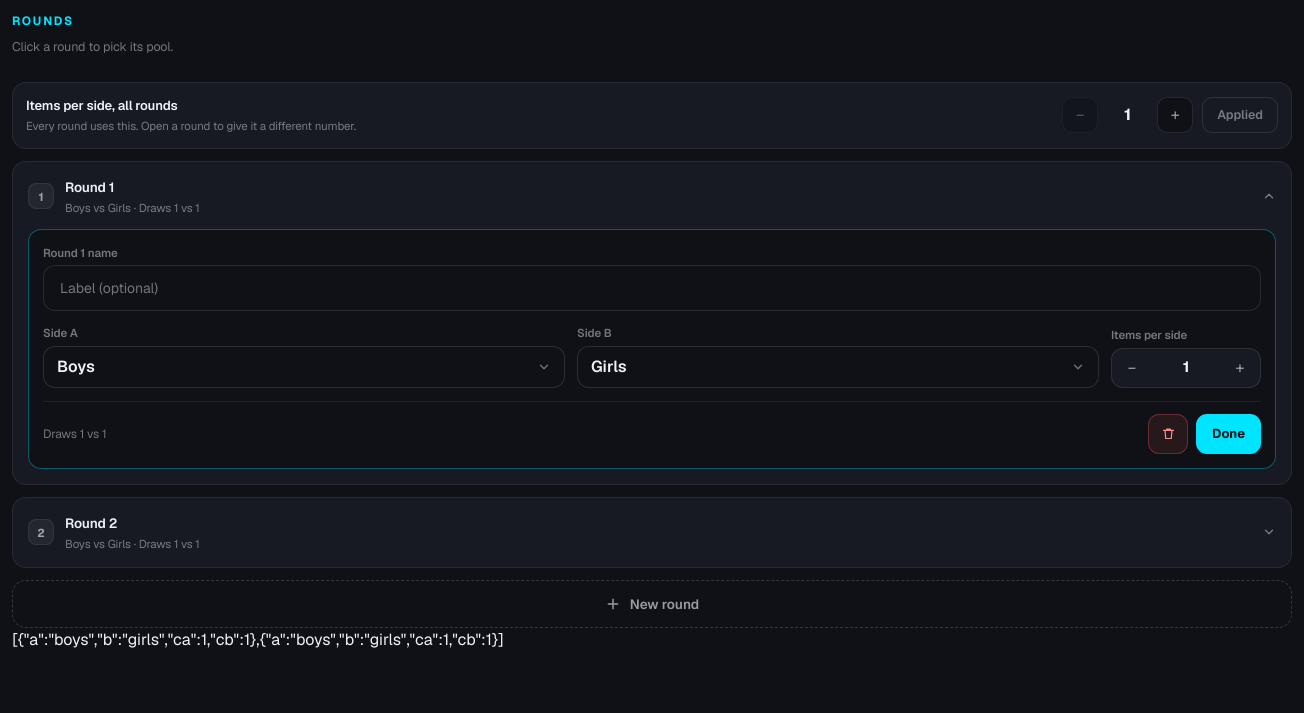
VersusEditor progressive disclosure (T6) › auto-expands a newly added round
Click the button "New round" at {"x": 652, "y": 604}, box [12, 580, 1292, 628]
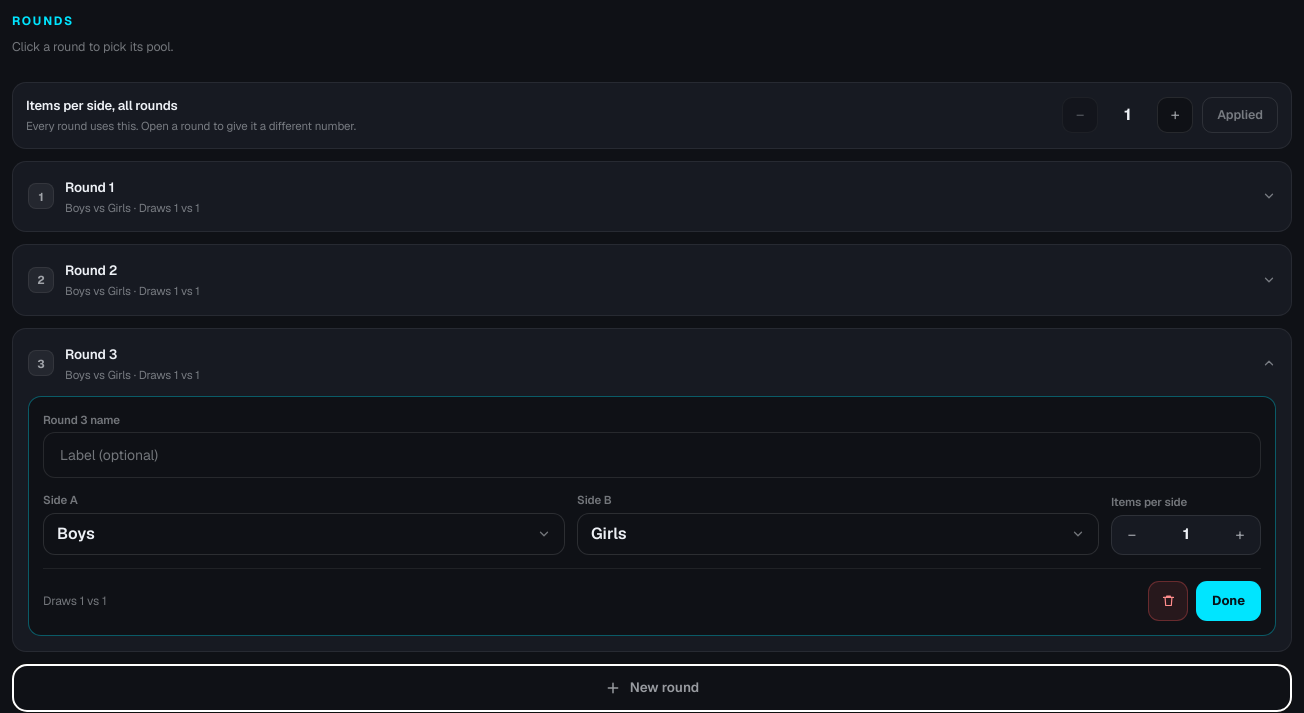
Now the dropdown named "Side A for round 3" is shown, box [43, 512, 565, 554]
